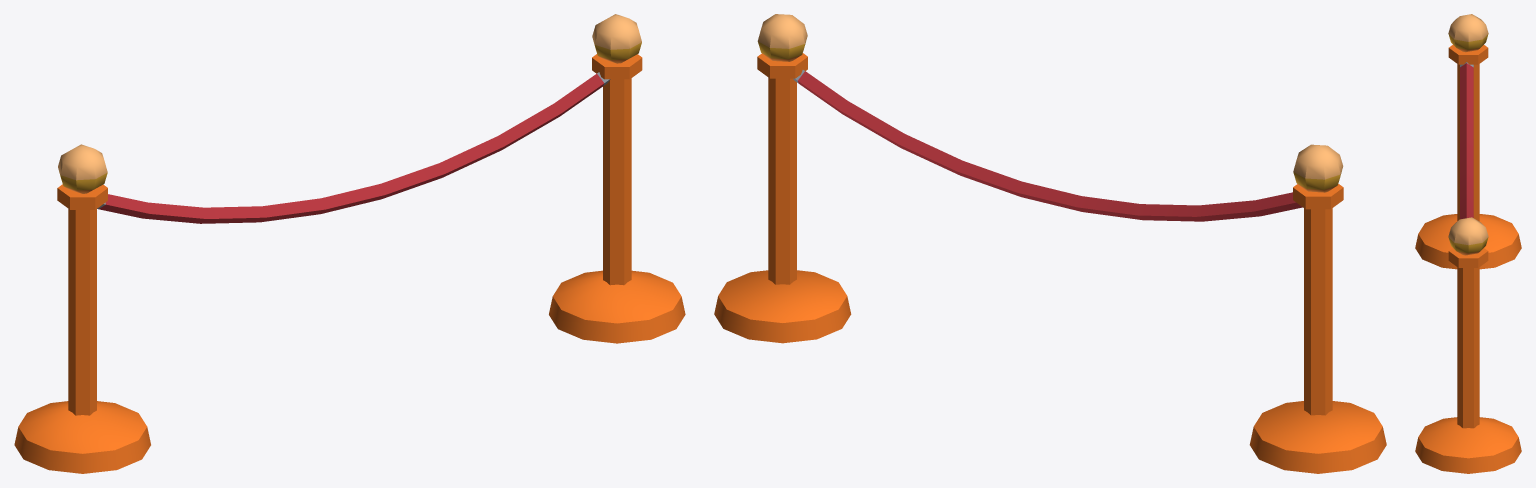
The model's file is divisoria_corda_longa_pacote.glb.
The picture shows the model from 3 angles, left to right: view 1: azimuth 30°, elevation 25°; view 2: azimuth 150°, elevation 25°; view 3: azimuth 270°, elevation 25°; orthographic projection. The views are drawn at different scales.
Visible parts, largest first — view 1: divisoria_corda_longa_pacote; view 2: divisoria_corda_longa_pacote; view 3: divisoria_corda_longa_pacote.
Part boxes in pixels (bbox=[...]): divisoria_corda_longa_pacote: bbox=[14, 14, 685, 473]; divisoria_corda_longa_pacote: bbox=[714, 14, 1386, 473]; divisoria_corda_longa_pacote: bbox=[1415, 14, 1521, 473].
Bounding box in the file's own units: 2.34 × 1.02 × 0.4254.
Materials: 1 (1 with a texture image).
